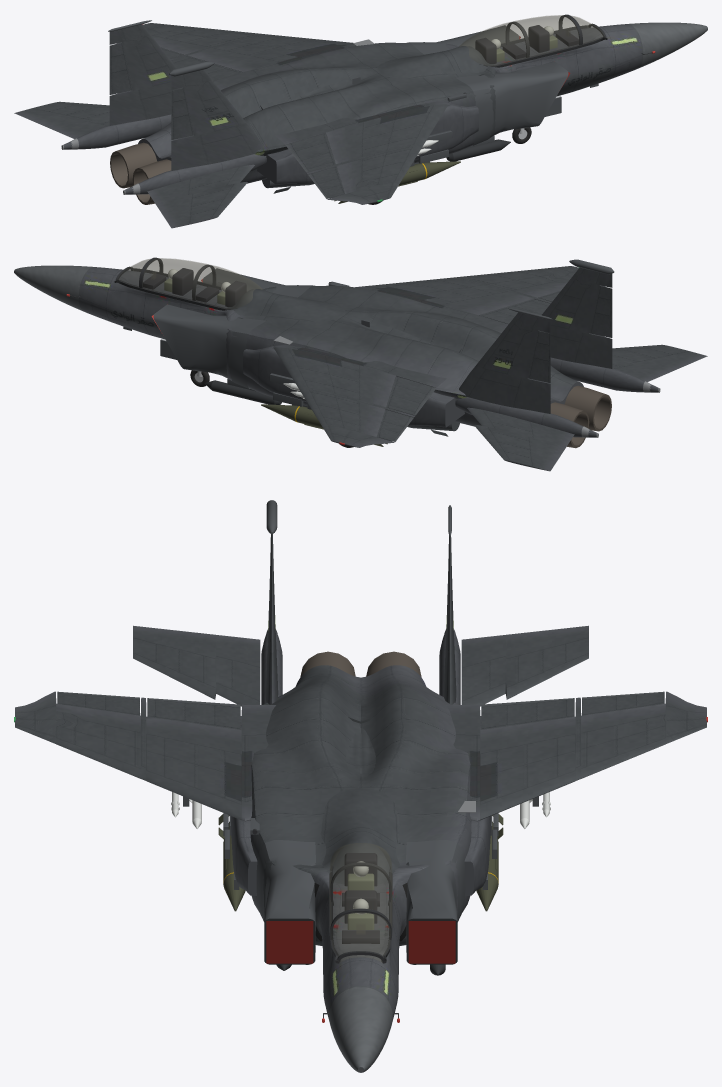
The model's file is zf25_static1.glb.
3 views of the same model, one above another, from view 1: azimuth 30°, elevation 25°; view 2: azimuth 150°, elevation 25°; view 3: azimuth 270°, elevation 25° (orthographic). The views are drawn at different scales.
Parts seen in each view (by area): view 1: zf25; view 2: zf25; view 3: zf25.
Boxes of the visible parts, x1=… form: zf25: x1=14, y1=14, x2=707, y2=228; zf25: x1=14, y1=257, x2=707, y2=471; zf25: x1=14, y1=500, x2=707, y2=1072.
Bounding box in the file's own units: 19.35 × 5.69 × 13.09.
Materials: 39 (18 with a texture image).
